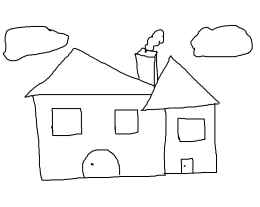clouds: (2, 25, 70, 61), (187, 23, 255, 58)
door: (81, 143, 123, 184), (178, 153, 200, 180)
open_window: (51, 107, 83, 137), (113, 108, 141, 135), (177, 117, 206, 143)
roof: (25, 46, 158, 98)
smoking_chimney: (129, 28, 169, 87)
wall: (31, 90, 170, 181)
